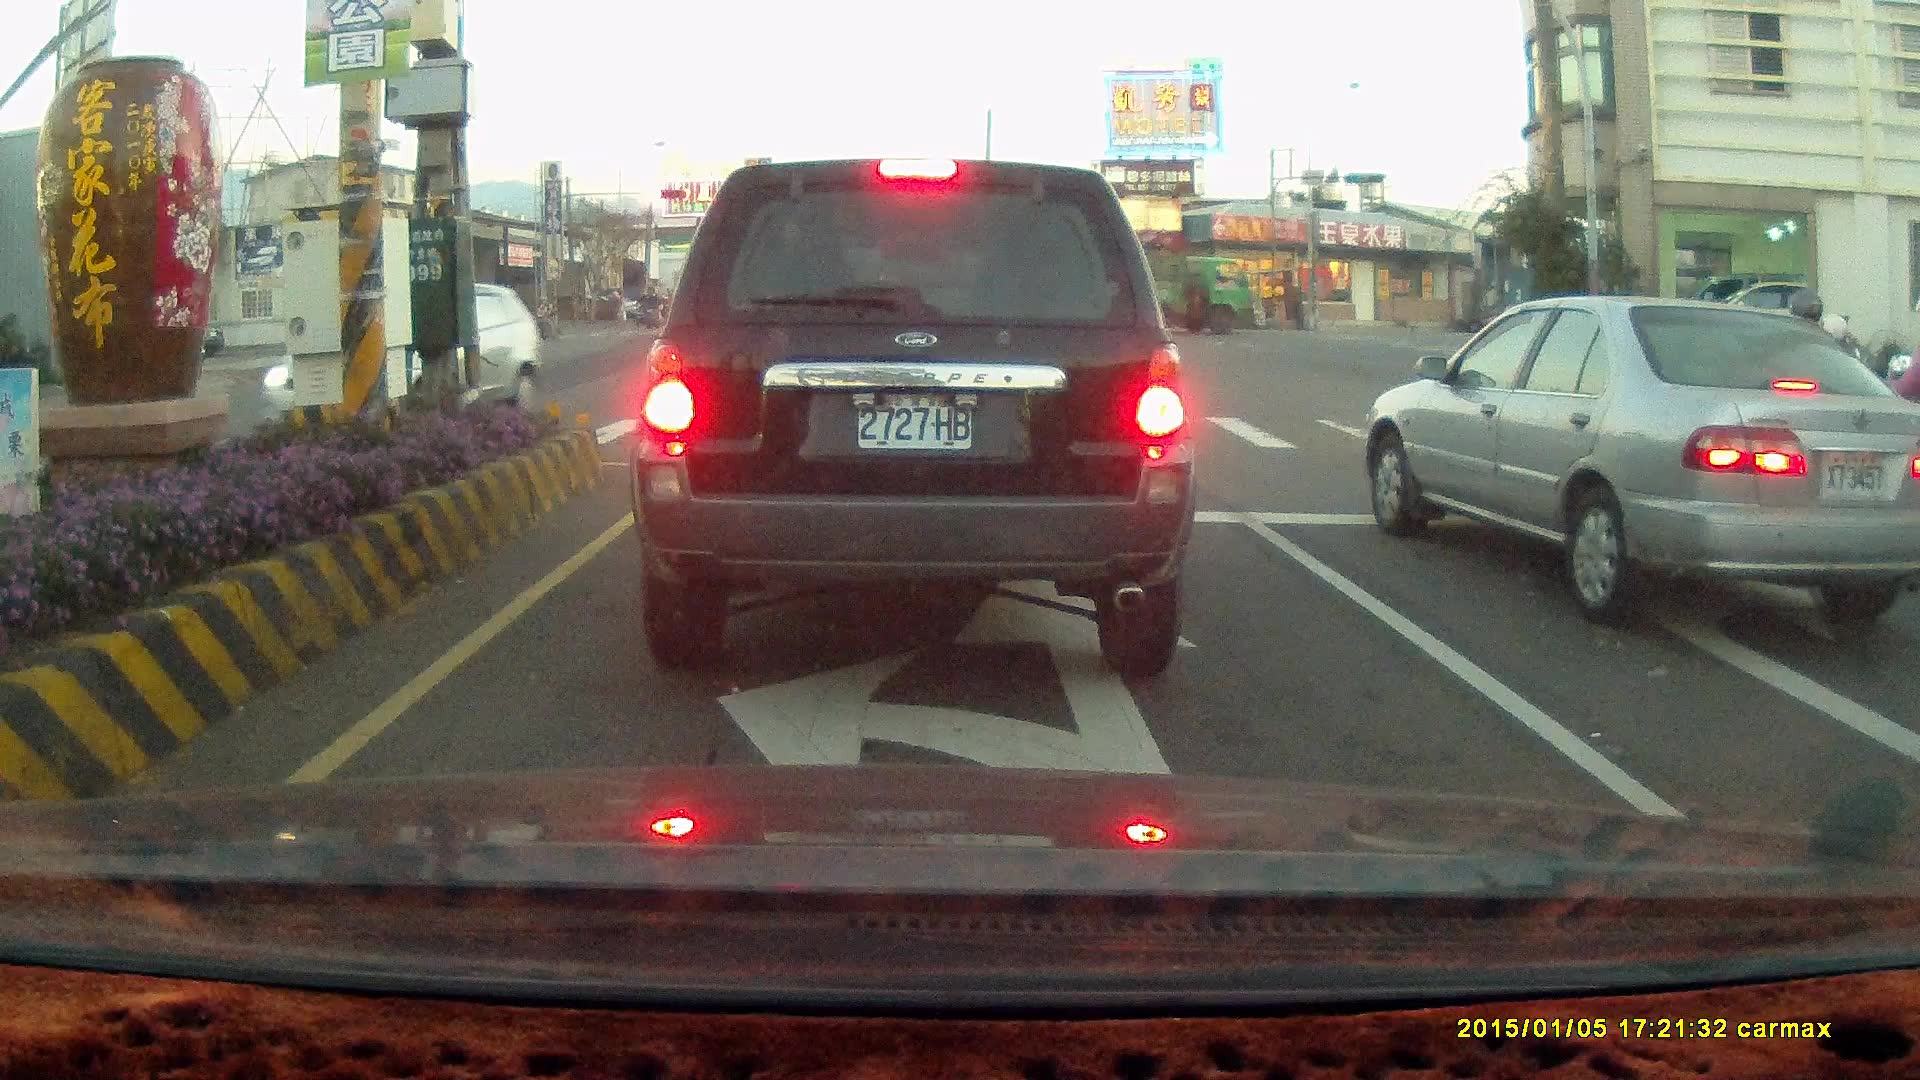rider: (529, 295, 560, 341), (645, 292, 666, 329)
vehicle: (627, 156, 1195, 680), (1354, 293, 1920, 622), (1369, 298, 1920, 610), (271, 284, 544, 434), (690, 244, 928, 378), (1663, 275, 1815, 369), (1094, 254, 1250, 341), (1896, 493, 1920, 836)
